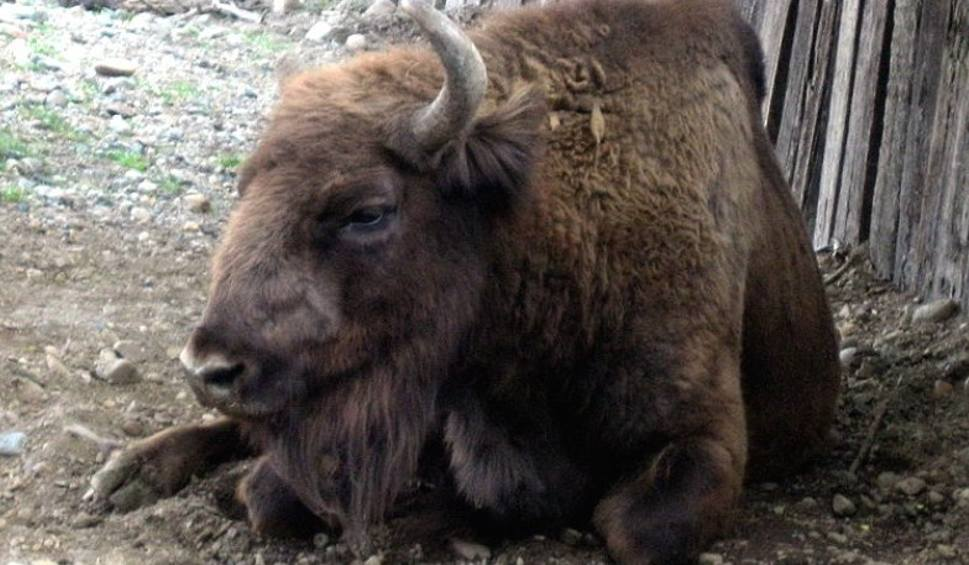zubr: (45, 7, 837, 565)
